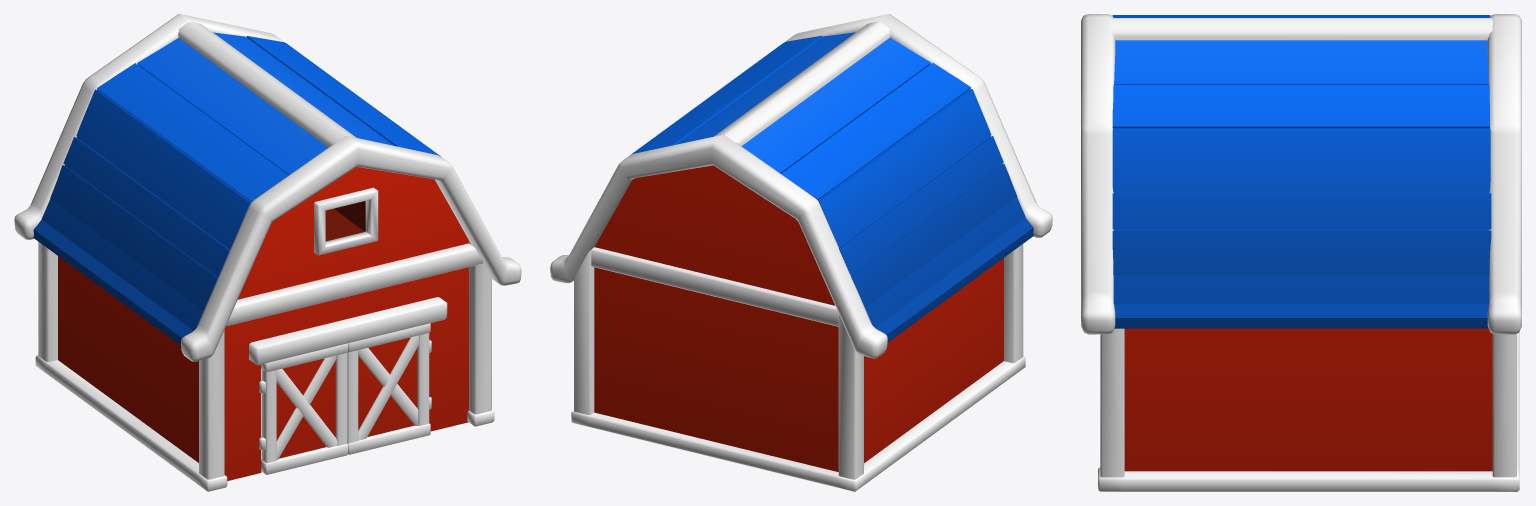
Rendered from Farm_House_Barn_01.glb.
3 views of the same model, side by side, from view 1: azimuth 30°, elevation 25°; view 2: azimuth 150°, elevation 25°; view 3: azimuth 270°, elevation 25° (orthographic). The views are drawn at different scales.
Visible parts, largest first — view 1: Farm_House_Barn_01, House_Farm_Barn_01_Door_A, House_Farm_Barn_01_Door_B; view 2: Farm_House_Barn_01; view 3: Farm_House_Barn_01.
Part boxes in pixels (x1,y1,x2,y2): Farm_House_Barn_01: (14, 14, 521, 491); House_Farm_Barn_01_Door_A: (259, 343, 348, 474); House_Farm_Barn_01_Door_B: (347, 323, 431, 454); Farm_House_Barn_01: (550, 14, 1052, 491); Farm_House_Barn_01: (1081, 14, 1521, 491).
Size of the model in its own units: 7.79 by 7.16 by 7.34.
Materials: 1 (1 with a texture image).
